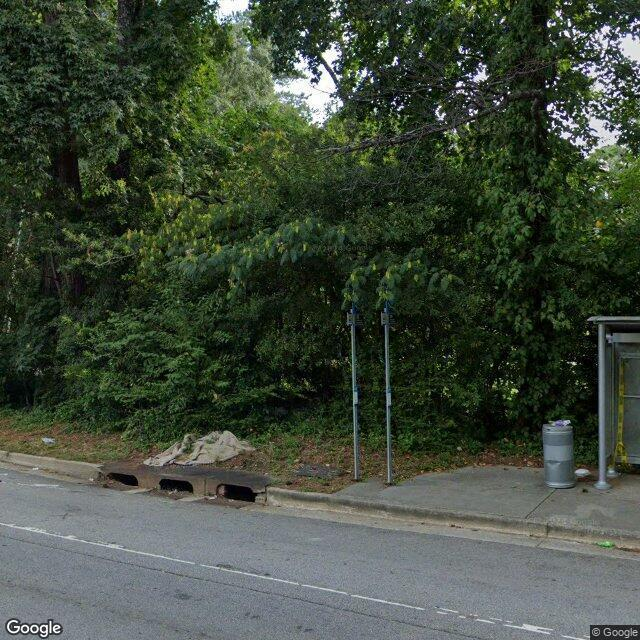shelter: (585, 314, 640, 496)
trash_can: (542, 420, 576, 490)
